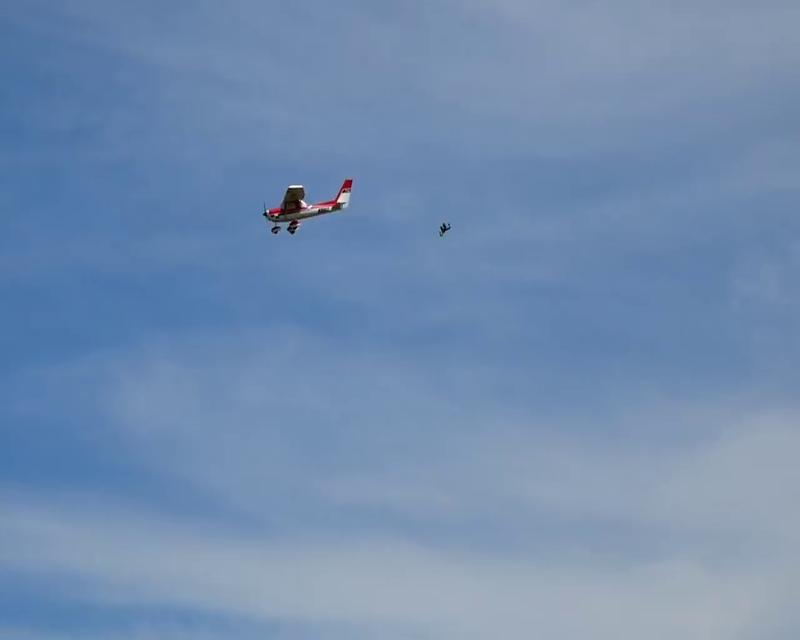UAV: (261, 177, 353, 235)
